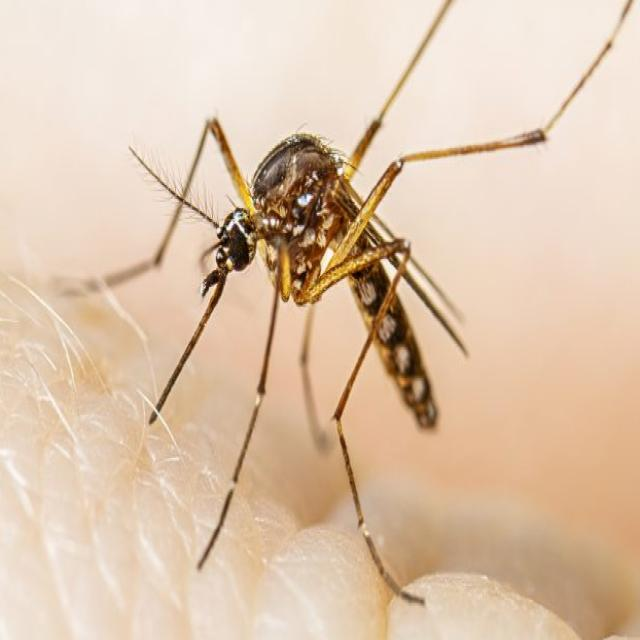Mosquito: (116, 88, 500, 587)
